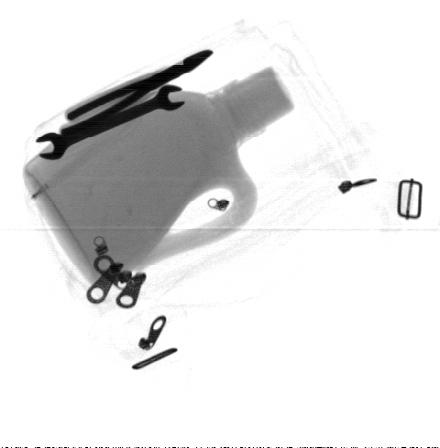Pliers: (65, 50, 213, 134)
Wrench: (36, 83, 187, 161)
